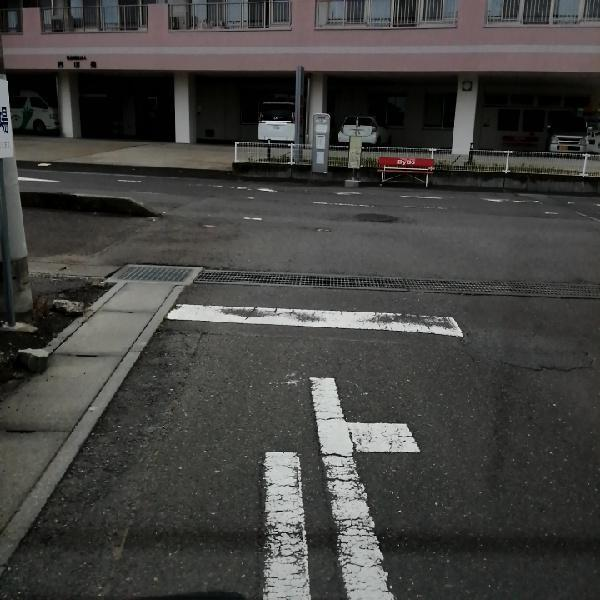D40: (197, 220, 221, 232), (309, 222, 333, 234)
D44: (240, 364, 428, 597)
D50: (352, 208, 400, 224)
